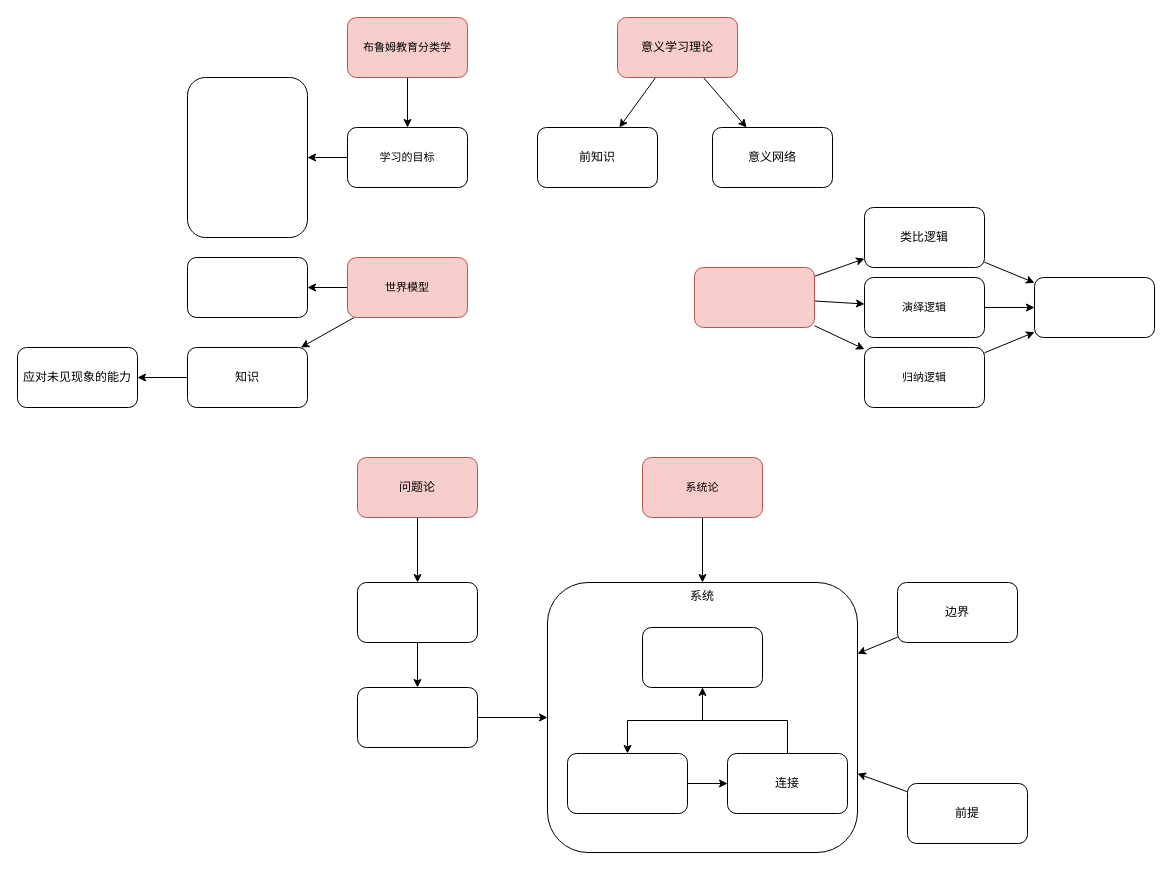
Some shapes in this 1172 by 870 pixel diagram are drawn without their labels. The shapes that lost their labels are listed below. From the top down, each one's centre as x and y in pixels, then its label:
At point (247, 157): "记忆 理解 应用 分析 评价 创造".
At point (247, 287): "判别模型".
At point (754, 297): "逻辑学".
At point (1094, 307): "溯因逻辑".
At point (417, 612): "问题的问题".
At point (702, 657): "目标".
At point (417, 717): "问题".
At point (627, 783): "要素".
